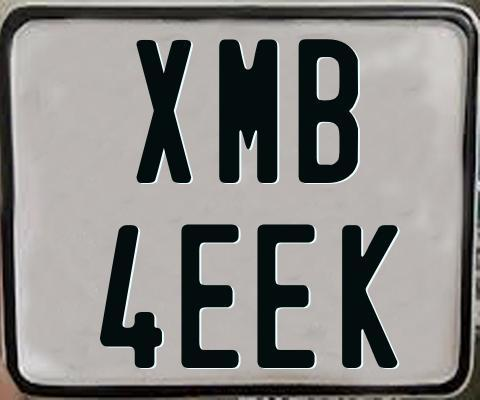4: (98, 222, 164, 366)
B: (295, 36, 357, 183)
E: (181, 221, 245, 365), (254, 224, 316, 369)
K: (339, 223, 400, 366)
M: (218, 38, 280, 184)
X: (134, 39, 191, 182)
